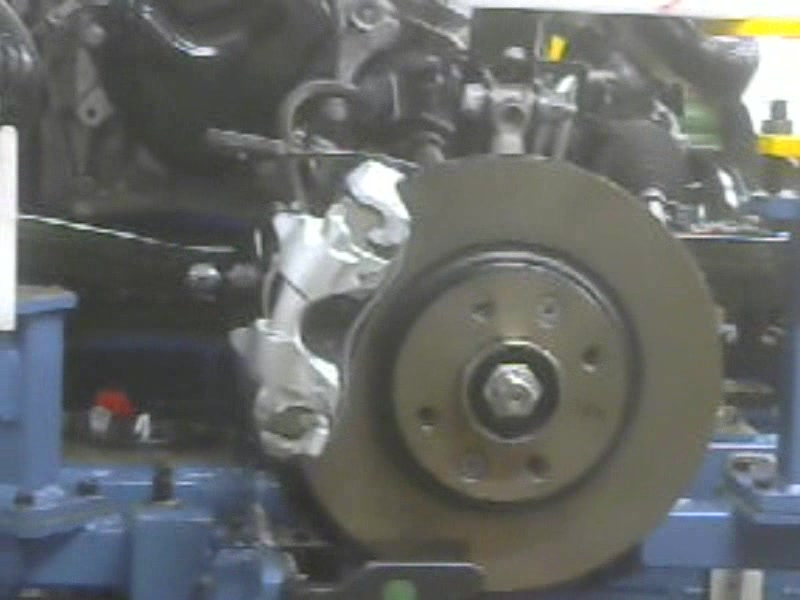DD2: (418, 158, 721, 594)
P2: (229, 157, 415, 462)
